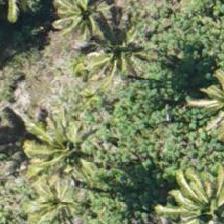coconut_tree: (21, 117, 111, 207), (36, 0, 126, 59), (164, 169, 223, 223)
